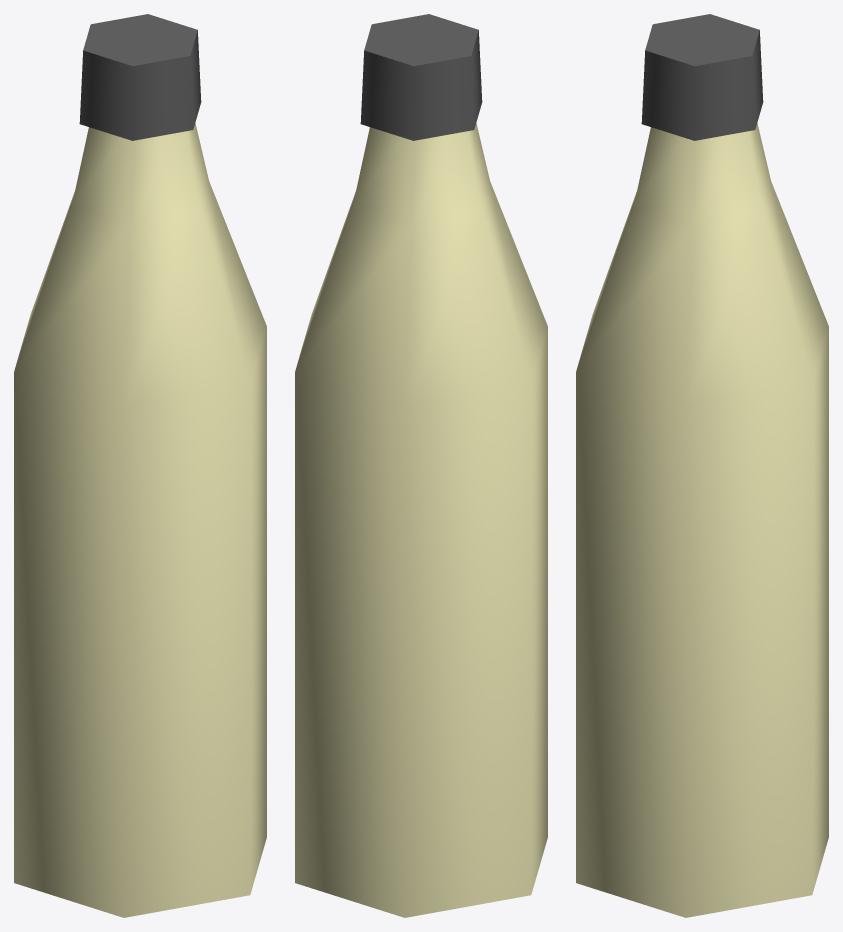
Rendered from shop_094.glb.
3 views of the same model, side by side, from view 1: azimuth 30°, elevation 25°; view 2: azimuth 150°, elevation 25°; view 3: azimuth 270°, elevation 25° (orthographic).
Parts seen in each view (by area): view 1: shop_094; view 2: shop_094; view 3: shop_094.
Boxes of the visible parts, x1,y1,x2,y2 form: shop_094: (14, 14, 266, 917); shop_094: (295, 14, 547, 917); shop_094: (576, 14, 828, 917).
Size of the model in its own units: 0.0663 by 0.2202 by 0.0615.
Materials: 1 (1 with a texture image).
